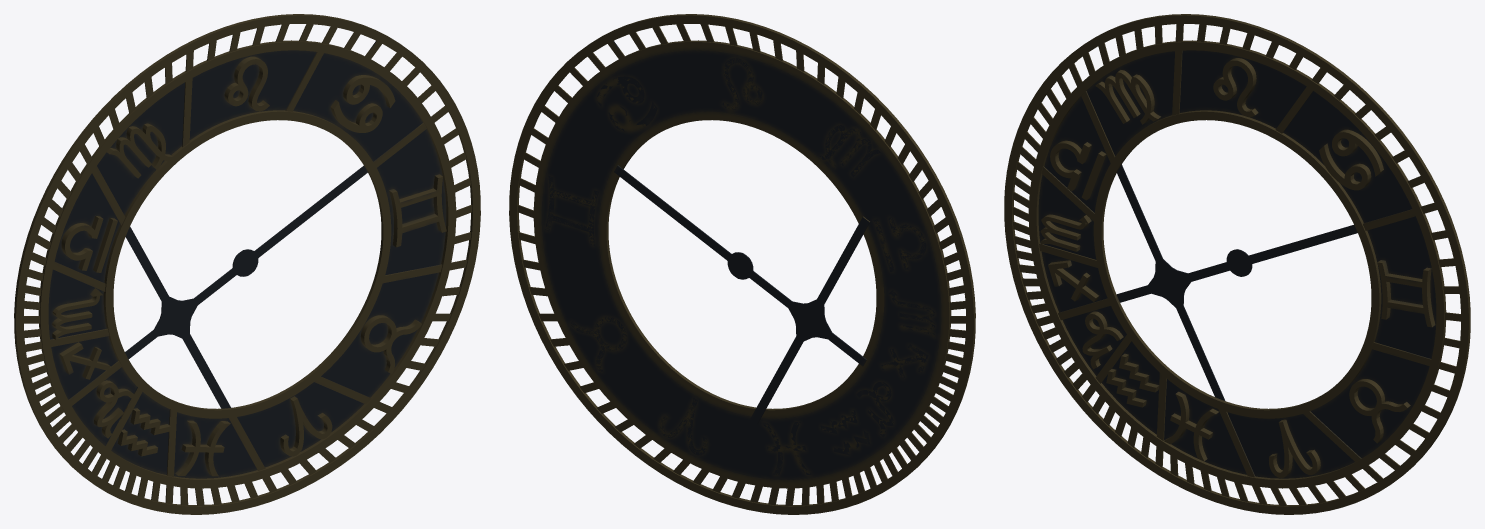
The model's file is smallFloorRing.obj.
The picture shows the model from 3 angles, left to right: view 1: azimuth 30°, elevation 25°; view 2: azimuth 150°, elevation 25°; view 3: azimuth 330°, elevation 25°; orthographic projection.
Parts seen in each view (by area): view 1: models/smallRing; view 2: models/smallRing; view 3: models/smallRing.
Part boxes in pixels (x1,y1,x2,y2): models/smallRing: (14, 14, 480, 514); models/smallRing: (509, 14, 975, 514); models/smallRing: (1004, 14, 1470, 514).
Bounding box in the file's own units: 4.15 × 4.15 × 0.0724.
